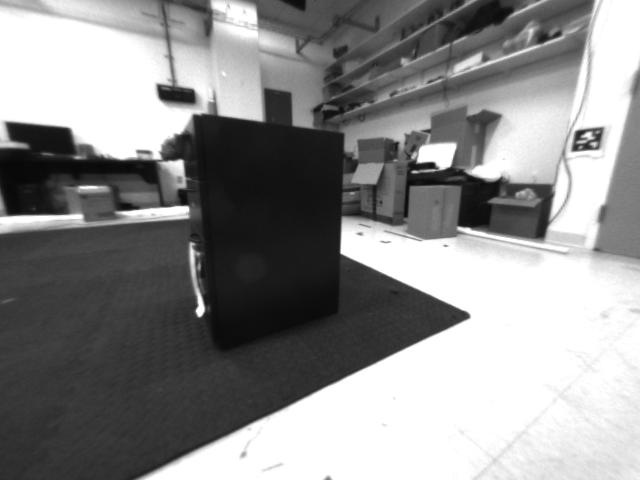drawer: (148, 124, 196, 165)
